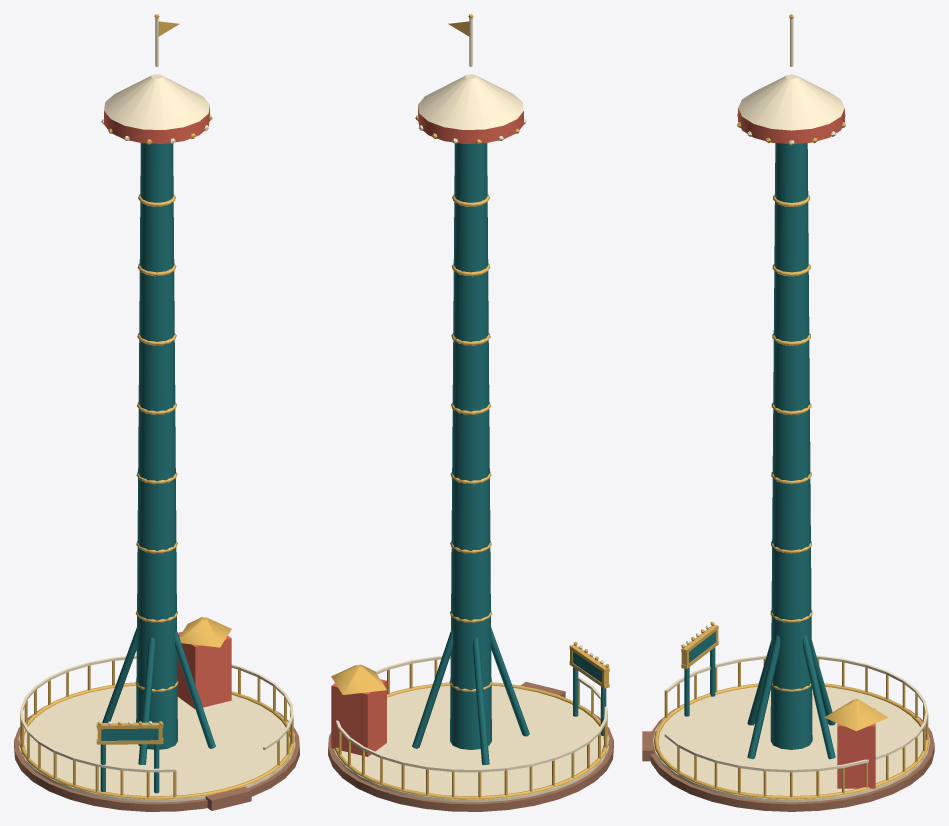
File: ride_obs.glb
3 views of the same model, side by side, from view 1: azimuth 30°, elevation 25°; view 2: azimuth 150°, elevation 25°; view 3: azimuth 270°, elevation 25° (orthographic).
Visible parts, largest first — view 1: ride_obs; view 2: ride_obs; view 3: ride_obs.
Boxes of the visible parts, left/top/right/bottom form: ride_obs: left=14, top=14, right=299, bottom=811; ride_obs: left=328, top=14, right=613, bottom=811; ride_obs: left=642, top=14, right=934, bottom=811.
Bounding box in the file's own units: 7.5 × 21.3 × 7.66.
